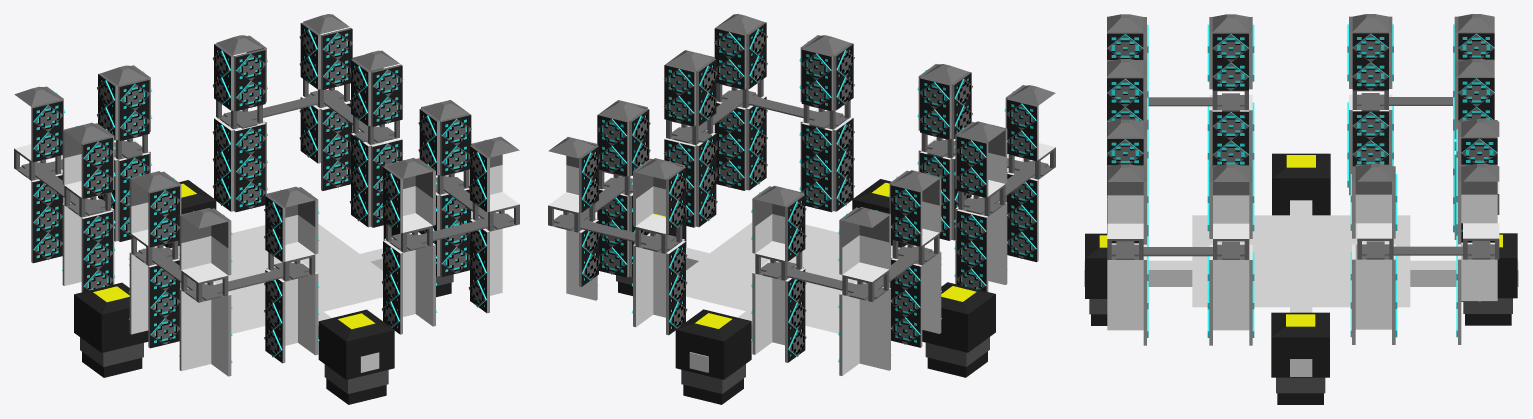
The model's file is EscenarioFlotante.fbx.
3 renders of one model, left to right at view 1: azimuth 30°, elevation 25°; view 2: azimuth 150°, elevation 25°; view 3: azimuth 270°, elevation 25°, orthographic. The views are drawn at different scales.
Visible parts, largest first — view 1: Plane001, Mesh180, Mesh1, Mesh241, Mesh245, Mesh61, Mesh119, Mesh083, Mesh087, Mesh160, Mesh41, Mesh108 (+90 smaller); view 2: Plane001, Mesh119, Mesh244, Mesh61, Mesh245, Mesh241, Mesh180, Mesh230, Mesh157, Mesh220, Mesh158, Mesh080 (+92 smaller); view 3: Plane001, Mesh61, Mesh241, Mesh246, Mesh245, Mesh180, Mesh119, Box002, Mesh244, Mesh1, Mesh097, Mesh159 (+34 smaller).
Boxes of the visible parts, x1,y1,x2,y2 form: Plane001: (127,224,382,333); Mesh180: (131,172,315,302); Mesh1: (318,309,394,404); Mesh241: (386,100,519,252); Mesh245: (74,282,148,377); Mesh61: (216,14,399,144); Mesh119: (14,65,147,217); Mesh083: (81,210,113,245); Mesh087: (81,136,113,171); Mesh160: (148,185,180,220); Mesh41: (371,64,403,99); Mesh108: (31,100,63,135); Plane001: (686,222,942,333); Mesh119: (755,171,939,301); Mesh244: (675,309,751,404); Mesh61: (548,101,682,253); Mesh245: (922,282,995,377); Mesh241: (666,14,850,145); Mesh180: (921,64,1055,216); Mesh230: (714,27,746,62); Mesh157: (956,209,988,244); Mesh220: (801,48,833,83); Mesh158: (956,135,988,170); Mesh080: (890,184,922,219); Plane001: (1192,215,1410,307); Mesh61: (1357,119,1499,259); Mesh241: (1107,119,1249,259); Mesh246: (1271,312,1329,404); Mesh245: (1272,153,1330,215); Mesh180: (1107,14,1248,154); Mesh119: (1352,14,1494,150); Box002: (1084,260,1518,286); Mesh244: (1463,233,1517,325); Mesh1: (1085,233,1107,325); Mesh097: (1458,76,1494,106); Mesh159: (1212,32,1248,62).
Size of the model in its own units: 20.04 by 11.38 by 19.92.
